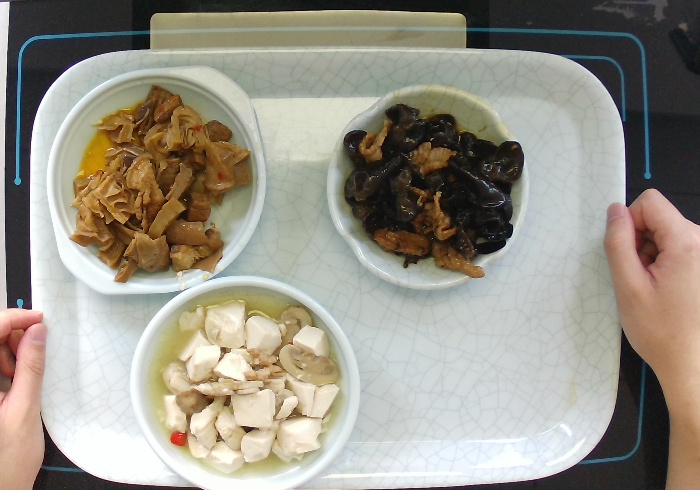JYsf-Ao_Yuan_Wan: (325, 81, 531, 292)
JYsf-Shuang_Er_Pan: (45, 63, 268, 297)
JYsf-Xiao_Yuan_Pan: (127, 272, 362, 490)
